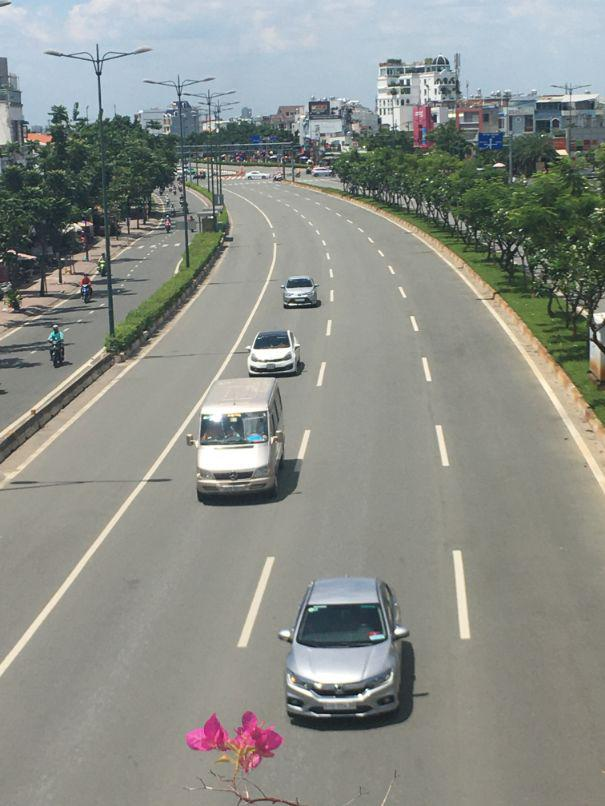car: (282, 573, 418, 729), (195, 374, 292, 503), (250, 330, 306, 380), (283, 275, 321, 309)
